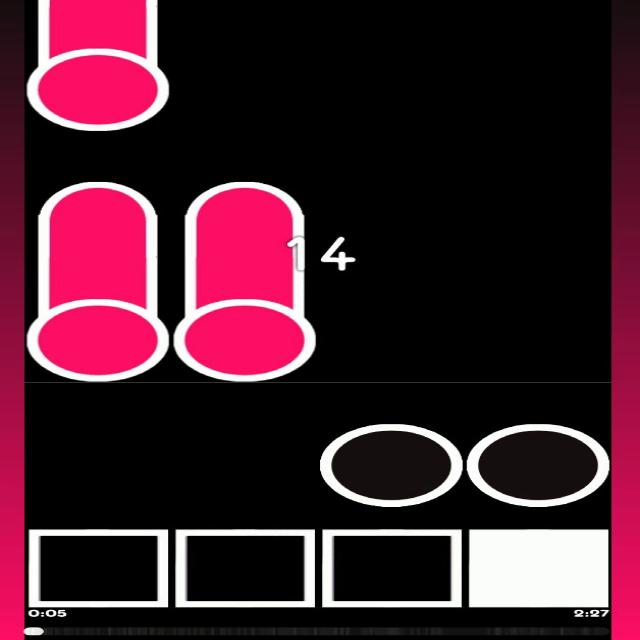end_hold: (186, 171, 302, 220), (40, 170, 158, 218)
note: (465, 421, 608, 508), (322, 421, 463, 507)
start_hold: (25, 32, 168, 132), (176, 280, 316, 380), (27, 281, 165, 380)
